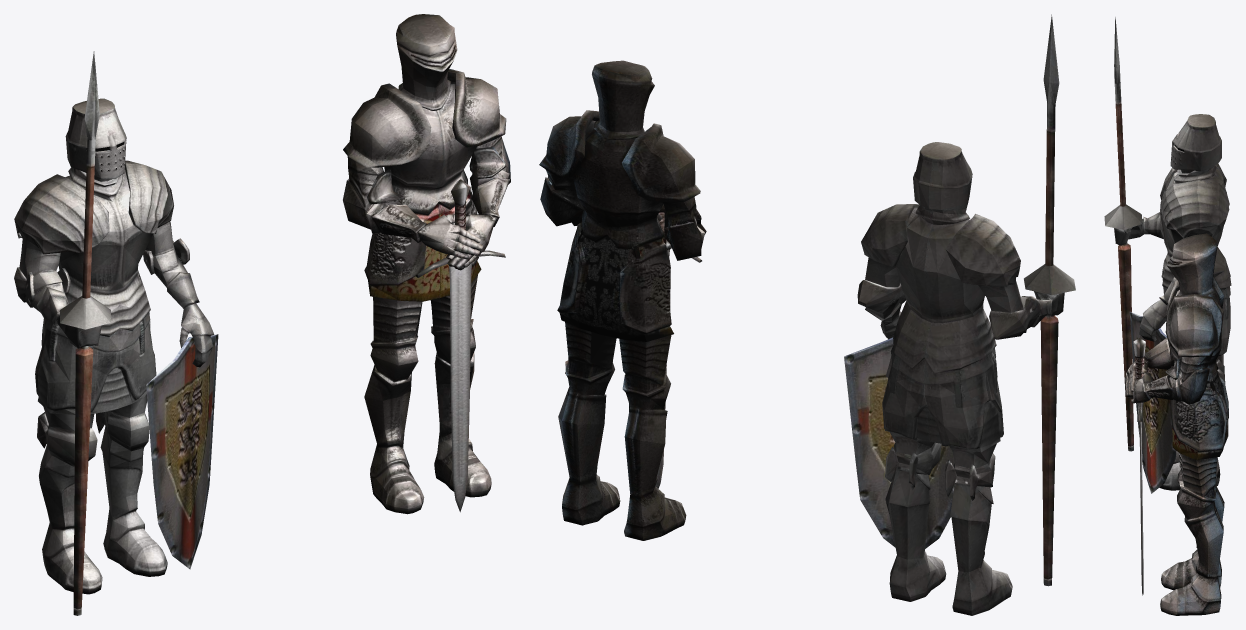
File: knight.FBX
3 renders of one model, left to right at view 1: azimuth 30°, elevation 25°; view 2: azimuth 150°, elevation 25°; view 3: azimuth 270°, elevation 25°, orthographic. The views are drawn at different scales.
Visible parts, largest first — view 1: Box04, Box03; view 2: Box04, Box03; view 3: Box03, Box04.
Part boxes in pixels (x1=…): Box04: x1=14, y1=51, x2=218, y2=615; Box03: x1=343, y1=14, x2=510, y2=514; Box04: x1=844, y1=14, x2=1075, y2=615; Box03: x1=539, y1=60, x2=706, y2=540; Box03: x1=1125, y1=233, x2=1228, y2=615; Box04: x1=1104, y1=17, x2=1231, y2=493.
Size of the model in its own units: 133 by 146 by 38.37.
